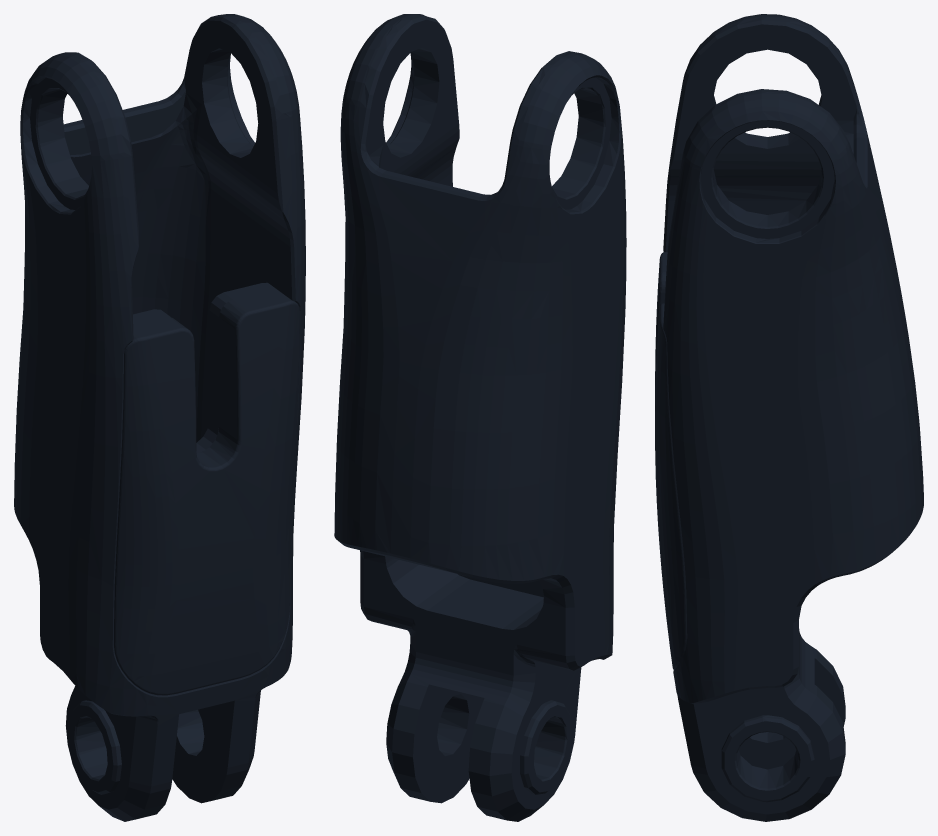
Rendered from L_ring_prox.obj.
3 renders of one model, left to right at view 1: azimuth 30°, elevation 25°; view 2: azimuth 150°, elevation 25°; view 3: azimuth 270°, elevation 25°, orthographic. The views are drawn at different scales.
Parts seen in each view (by area): view 1: L_ring_prox-mesh; view 2: L_ring_prox-mesh; view 3: L_ring_prox-mesh.
Boxes of the visible parts, box(x1,y1,x2,y2) form: L_ring_prox-mesh: box(14, 14, 305, 821); L_ring_prox-mesh: box(334, 14, 626, 821); L_ring_prox-mesh: box(655, 14, 923, 821).
Bounding box in the file's own units: 0.0154 × 0.0525 × 0.0172.
